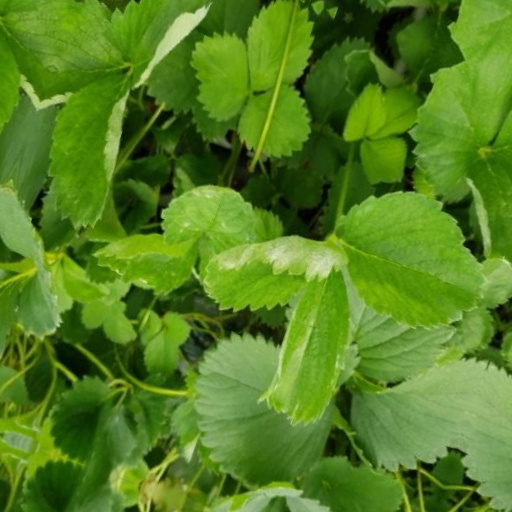Powdery Mildew Leaf: (168, 193, 301, 296), (132, 108, 206, 273), (266, 233, 361, 312), (312, 185, 411, 247)
